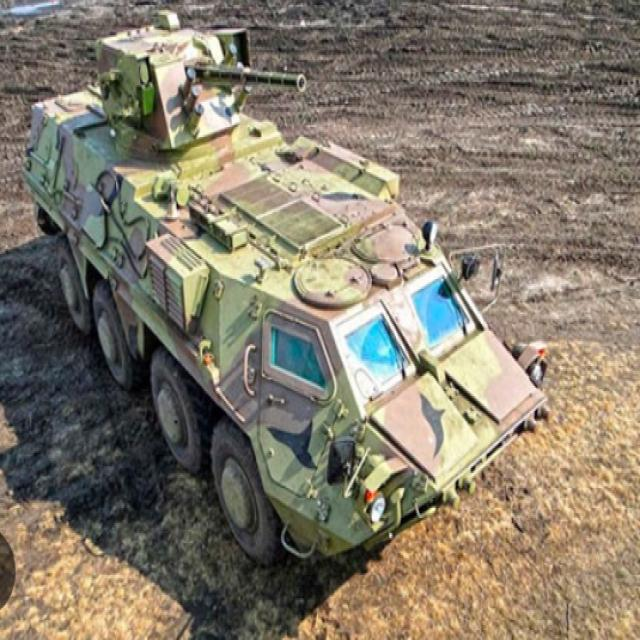MIL_APC: (21, 25, 560, 574)
